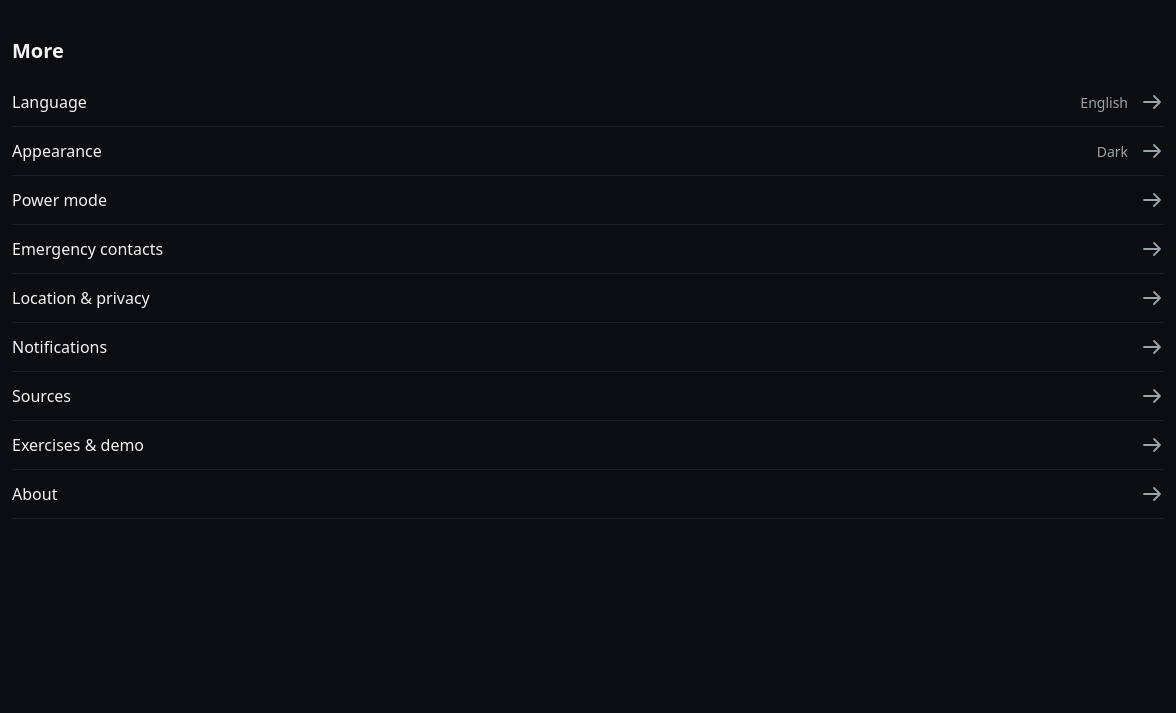
Scenario: More hub: privacy sentence and desktop wiring › shows one short privacy sentence, the controls outside the disclosure, and the full explanation inside it
The width and height of the screenshot is (1176, 713).
Click the button with class "ui-row" showing "Location & privacy": (81, 298) [12,274,1164,323]
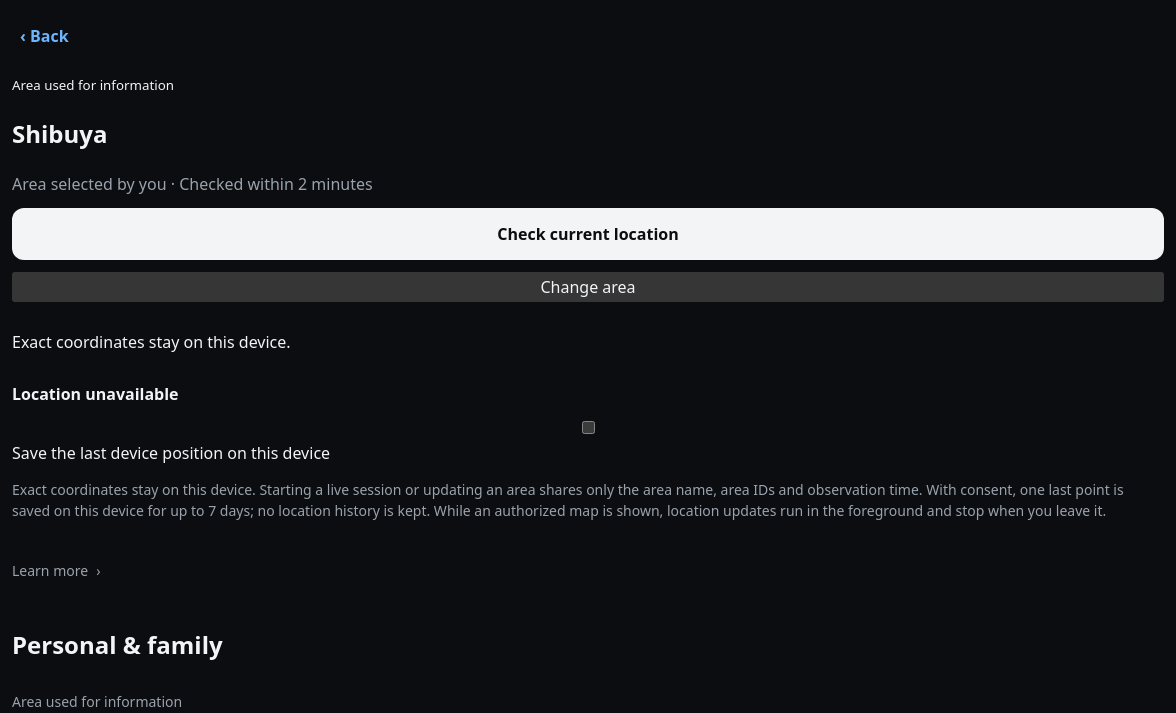
Check: the text "Exact coordinates stay on this device." is shown, box [12,331,291,353]
Check: the checkbox labelled "Save the last device position on this device" is shown, box [16,421,1161,434]
